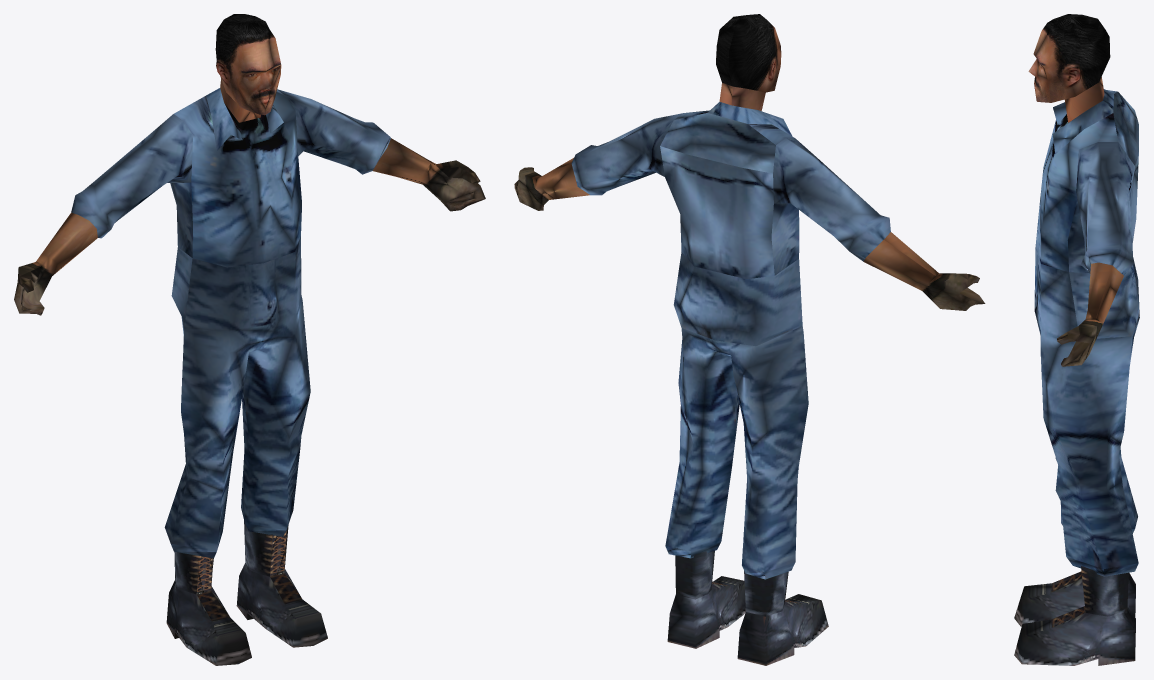
File: IRWRK1.glb
The picture shows the model from 3 angles, left to right: view 1: azimuth 30°, elevation 25°; view 2: azimuth 150°, elevation 25°; view 3: azimuth 270°, elevation 25°; orthographic projection.
Visible parts, largest first — view 1: _IRWRK1; view 2: _IRWRK1; view 3: _IRWRK1.
Boxes of the visible parts, x1,y1,x2,y2 form: _IRWRK1: (14, 14, 485, 665); _IRWRK1: (514, 14, 985, 665); _IRWRK1: (1014, 14, 1139, 665).
Size of the model in its own units: 1.6 by 2.02 by 0.371.
2 materials, 2 textured.
